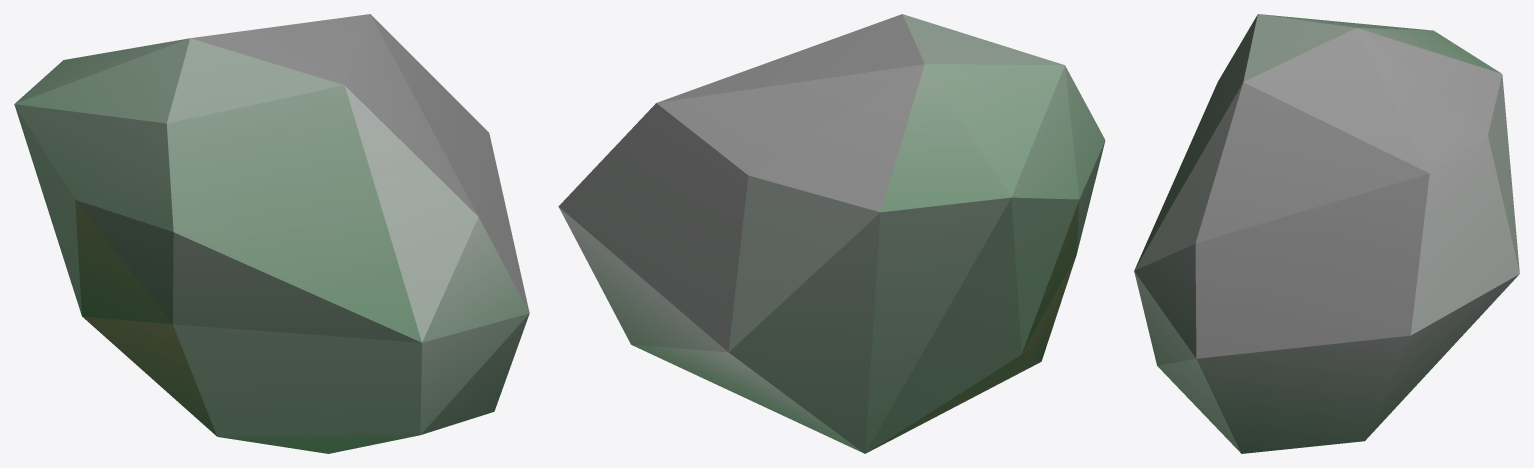
The model's file is Rock_Big_Round_01_Mossy.fbx.
The picture shows the model from 3 angles, left to right: view 1: azimuth 30°, elevation 25°; view 2: azimuth 150°, elevation 25°; view 3: azimuth 270°, elevation 25°; orthographic projection. The views are drawn at different scales.
Parts seen in each view (by area): view 1: Rock_Big_Round_Mossy; view 2: Rock_Big_Round_Mossy; view 3: Rock_Big_Round_Mossy.
Part boxes in pixels (x1,y1,x2,y2): Rock_Big_Round_Mossy: (14,14,529,453); Rock_Big_Round_Mossy: (558,14,1105,453); Rock_Big_Round_Mossy: (1134,14,1519,453).
Size of the model in its own units: 2.5 by 2 by 2.1.
